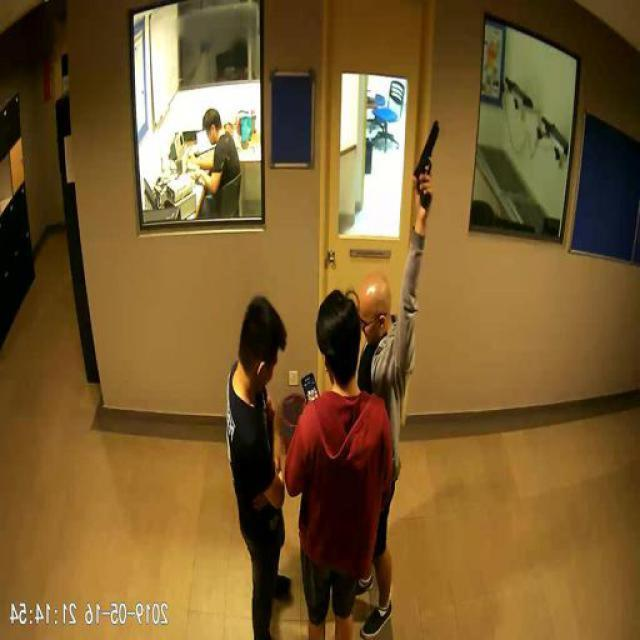weapon: (410, 120, 442, 212)
